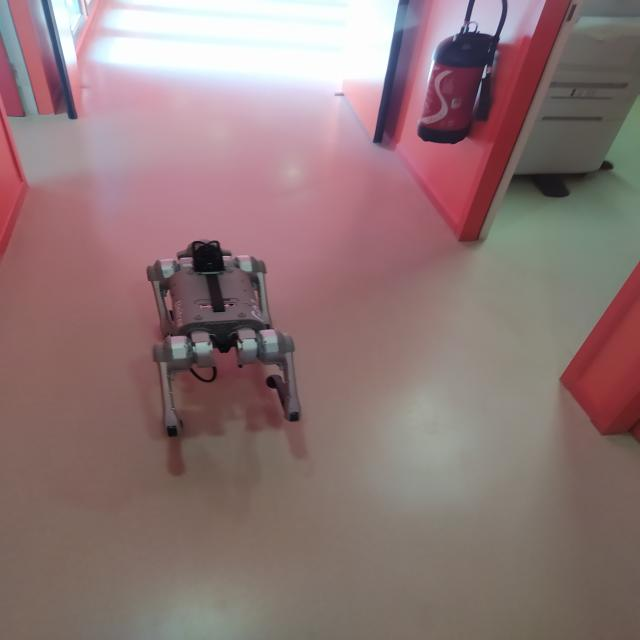unitree-go1-robot: (124, 227, 329, 462)
